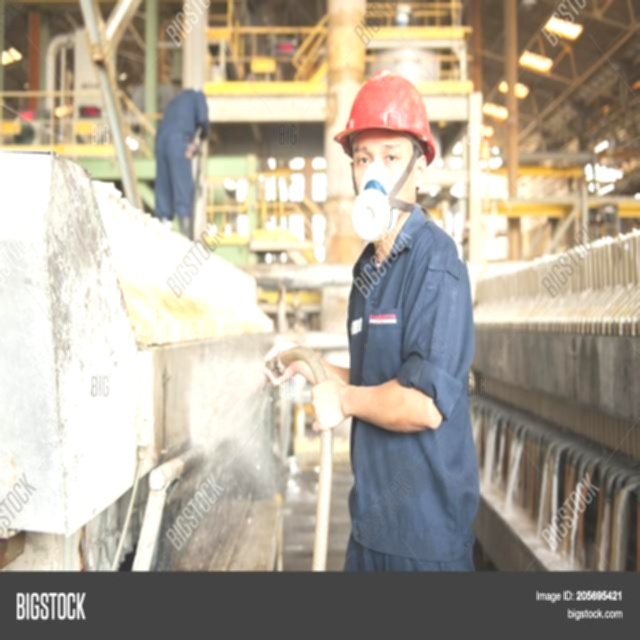Con_Casco: (337, 70, 433, 205)
